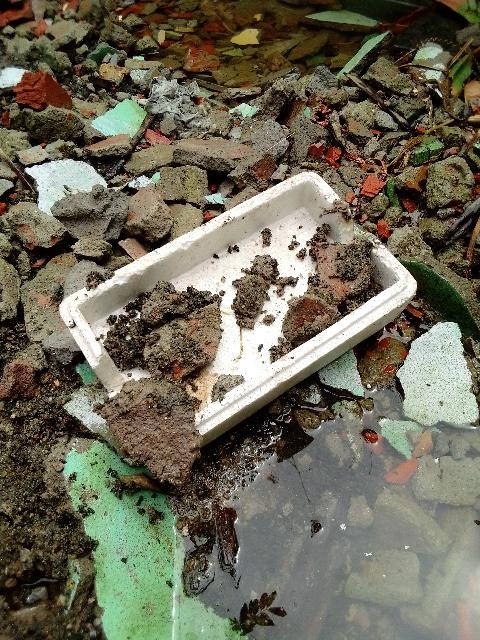cocksheet: (152, 135, 414, 400)
